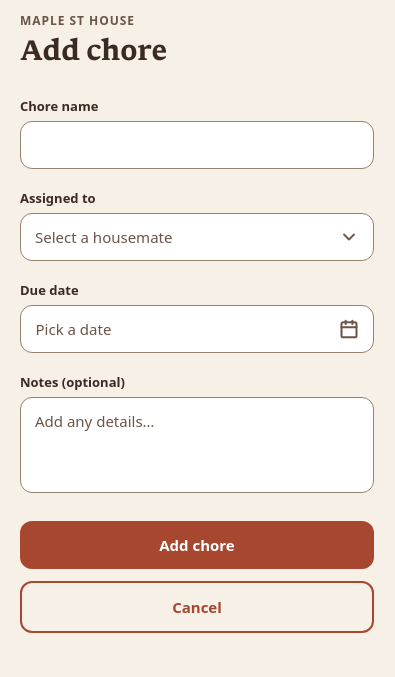
Test: AddChore › keeps the form open with its values when saving fails
Type "Mop kitchen" into the field labelled "Chore name".
click(197, 145); type("Mop kitchen")  # box [20, 121, 374, 169]
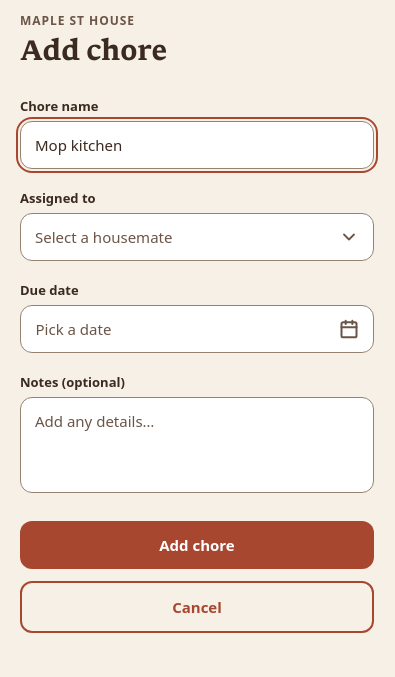
Click the dropdown named "Assigned to".
click(197, 237)  # box [20, 213, 374, 261]
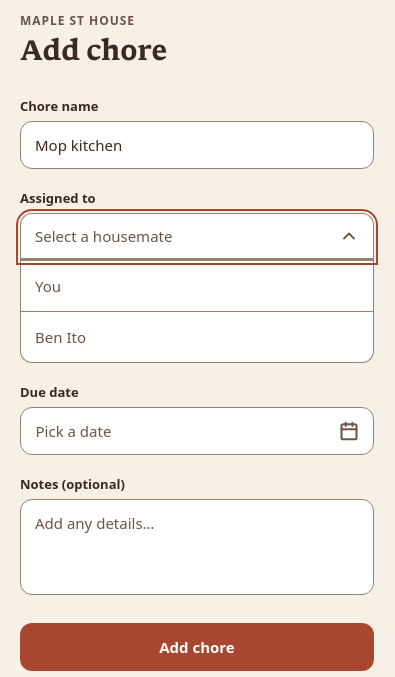
Click the option "You".
click(48, 286)  # box [20, 261, 374, 312]
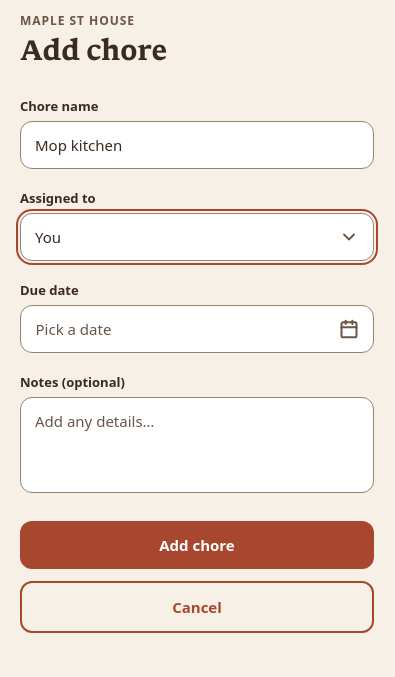
Type "2026-10-30" into the date field labelled "Due date".
click(197, 329); type("2026-10-30")  # box [20, 305, 374, 353]
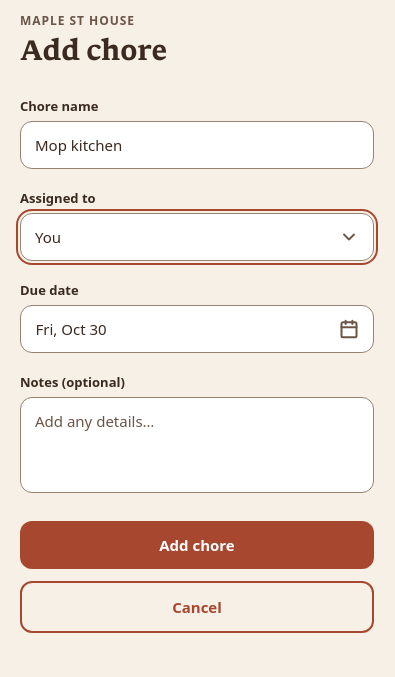
Click the button "Add chore".
click(197, 545)  # box [20, 521, 374, 569]
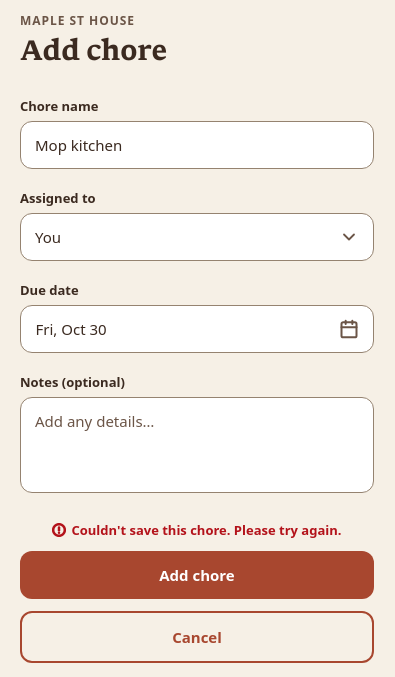
expect the message reads "Couldn't save this chore. Please try again.": met, box [72, 521, 342, 539]
